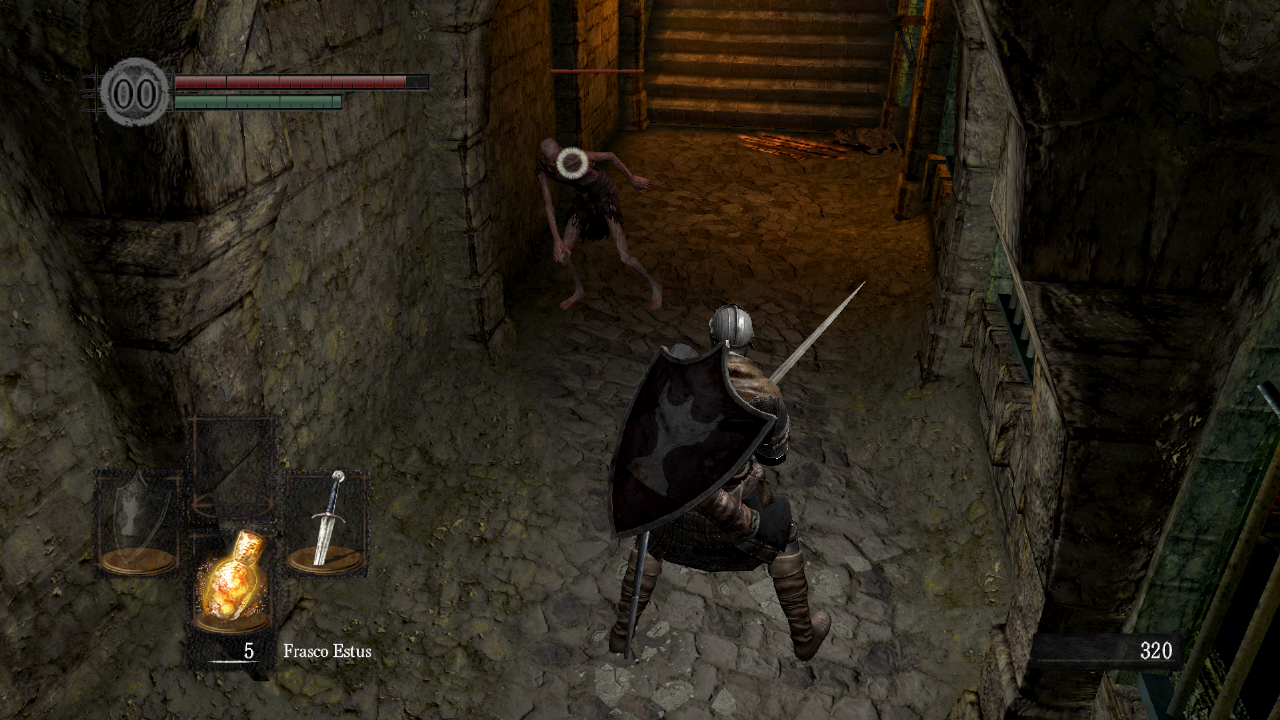hollow: (536, 137, 664, 311)
player: (607, 280, 868, 661)
